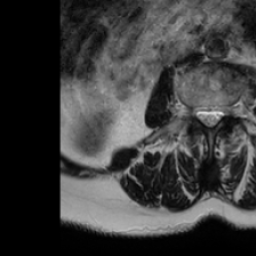CCS_stenosis: (204, 99, 212, 135)
LFS_normal: (223, 96, 232, 124)
LLS_normal: (212, 102, 222, 128)
RFS_normal: (184, 96, 195, 124)
RLS_normal: (195, 102, 204, 128)
